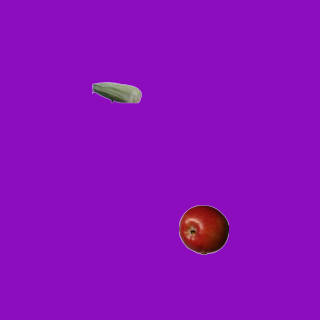Apple Braeburn: (178, 204, 228, 254)
Corn Husk: (91, 67, 141, 117)
